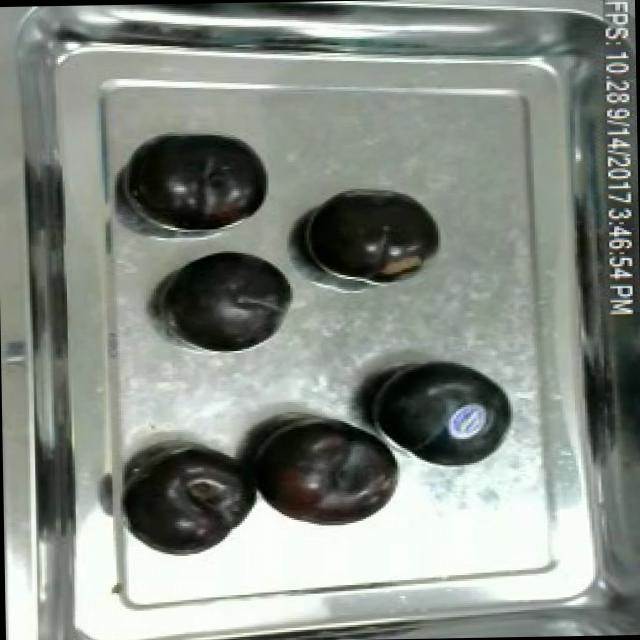Fruit: (244, 412, 406, 534), (360, 350, 516, 476), (126, 124, 276, 236), (119, 442, 262, 558), (162, 242, 296, 352), (295, 184, 446, 280)
